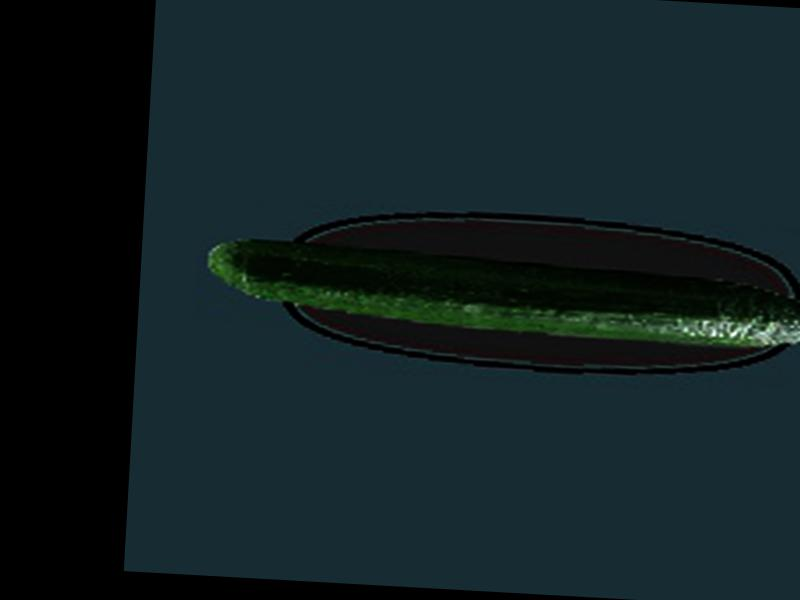Cucumber: (202, 233, 800, 353)
